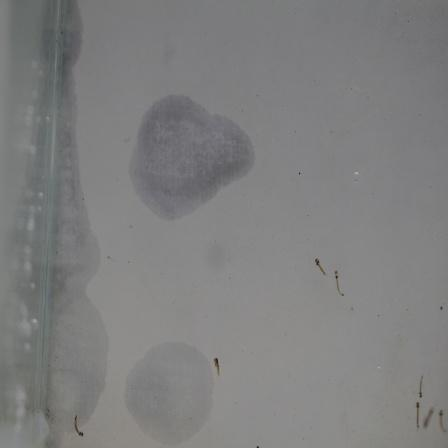Jentik-Nyamuk: (330, 264, 349, 301), (70, 411, 88, 441), (311, 254, 329, 279), (211, 353, 225, 380)
